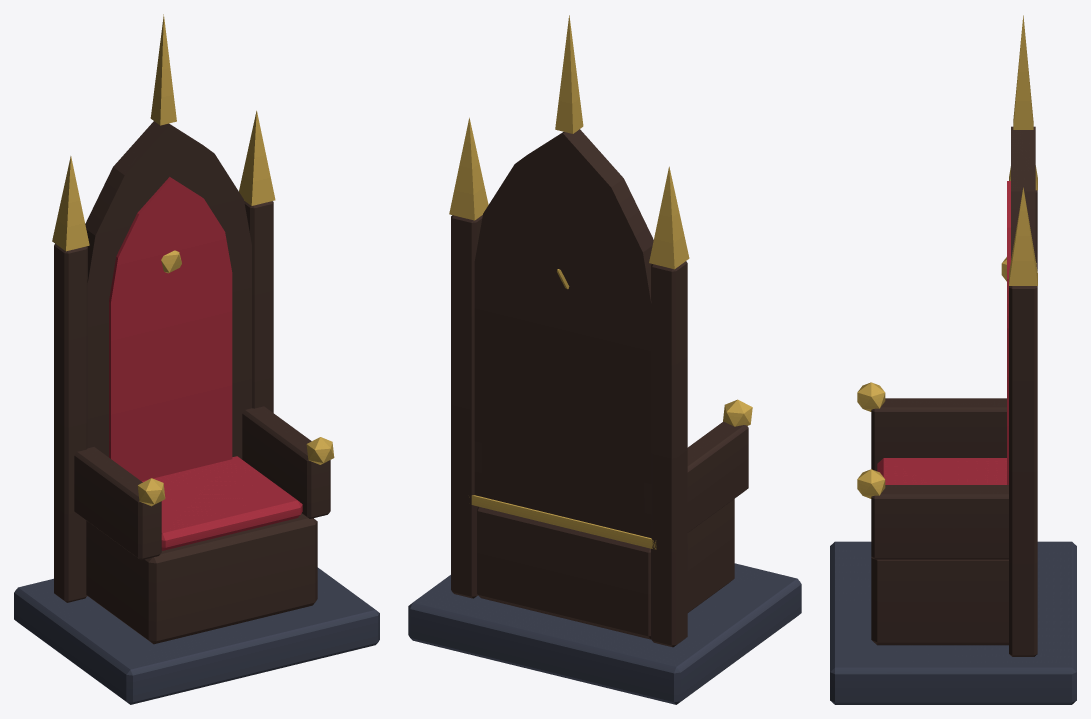
File: catedral-throne.glb
3 renders of one model, left to right at view 1: azimuth 30°, elevation 25°; view 2: azimuth 150°, elevation 25°; view 3: azimuth 270°, elevation 25°, orthographic. The views are drawn at different scales.
Parts seen in each view (by area): view 1: throne; view 2: throne; view 3: throne.
Part boxes in pixels (x1,y1,x2,y2): throne: (14,14,379,704); throne: (408,15,801,704); throne: (830,15,1076,704).
Size of the model in its own units: 1.5 by 3.37 by 1.2.
1 material, 1 textured.
